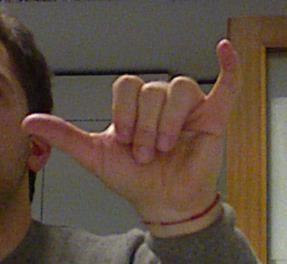clockwise: (19, 40, 239, 219)
